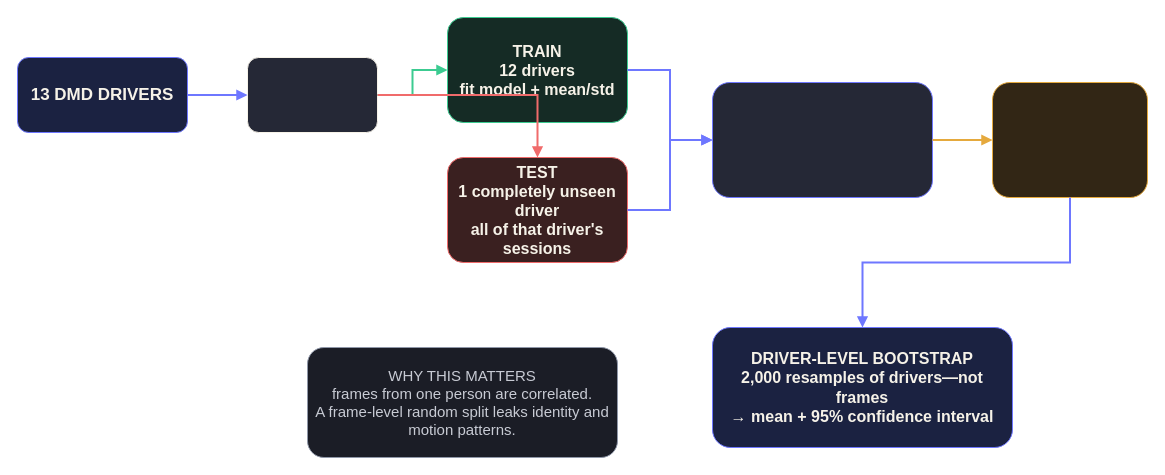
Image size: 1165x475. Some labels were removed from this diagram. The centre of each missing label's shape, as x and y in pixels:
"FOLD k" goes at point (312, 94).
"PER-DRIVER RESULT AUC · operating-point sensitivity scores + labels saved" goes at point (822, 140).
"REPEAT 13 TIMES every driver is unseen once" goes at point (1070, 140).
